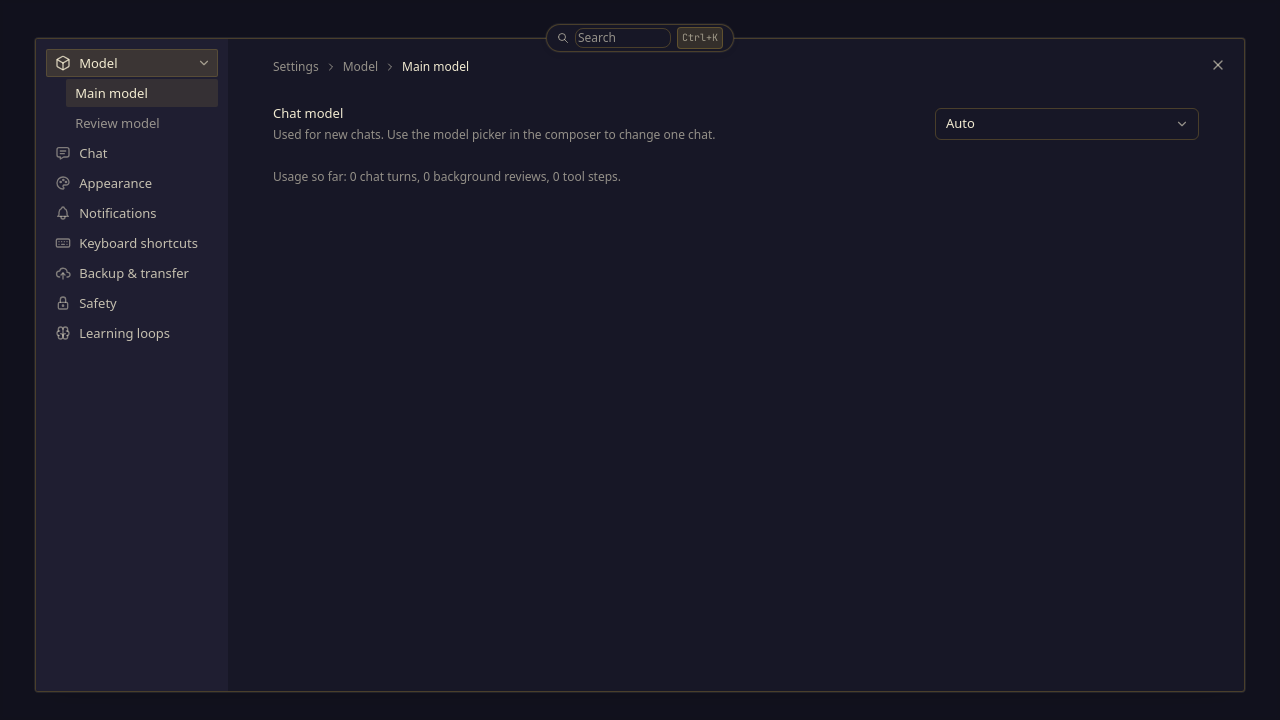
Scenario: Settings overlay › a group with sub-pages expands and its children open their own page
Click the button named "Collapse: Model" at coordinates (204, 63), box [194, 53, 214, 73]
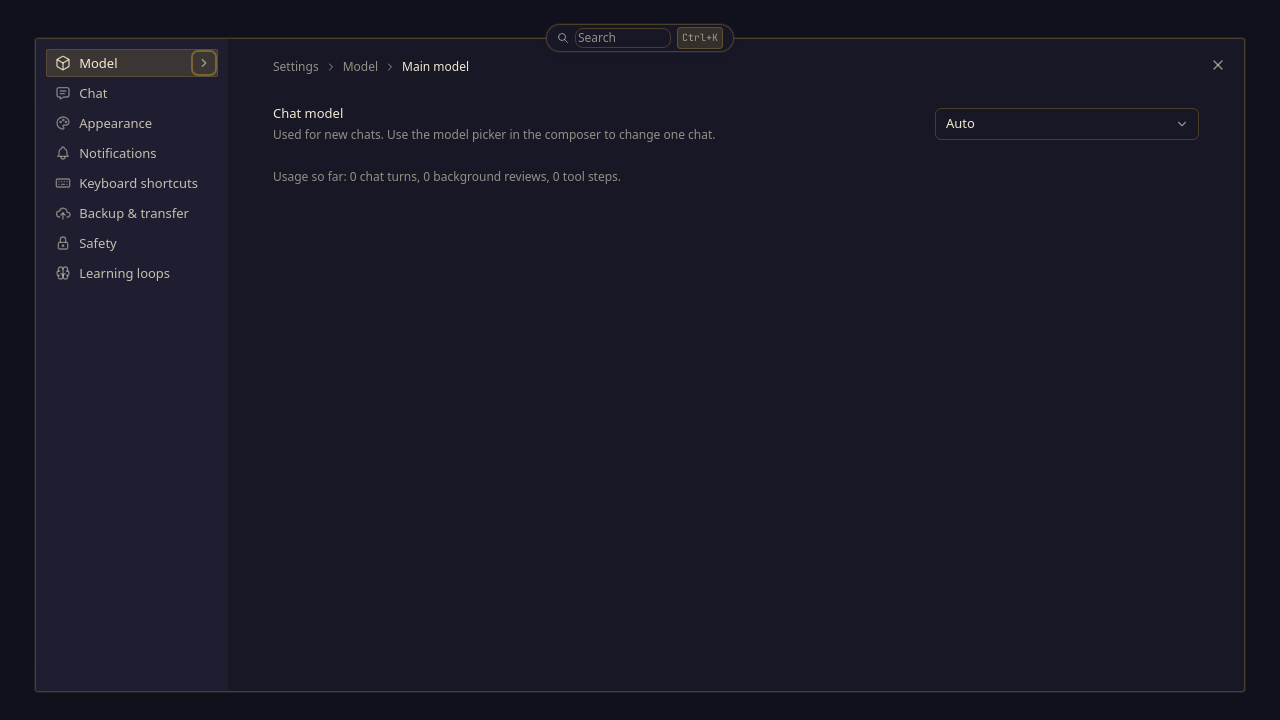
Expected: the button "Review model" is gone
Click the button named "Expand: Model" at coordinates (204, 63), box [194, 53, 214, 73]
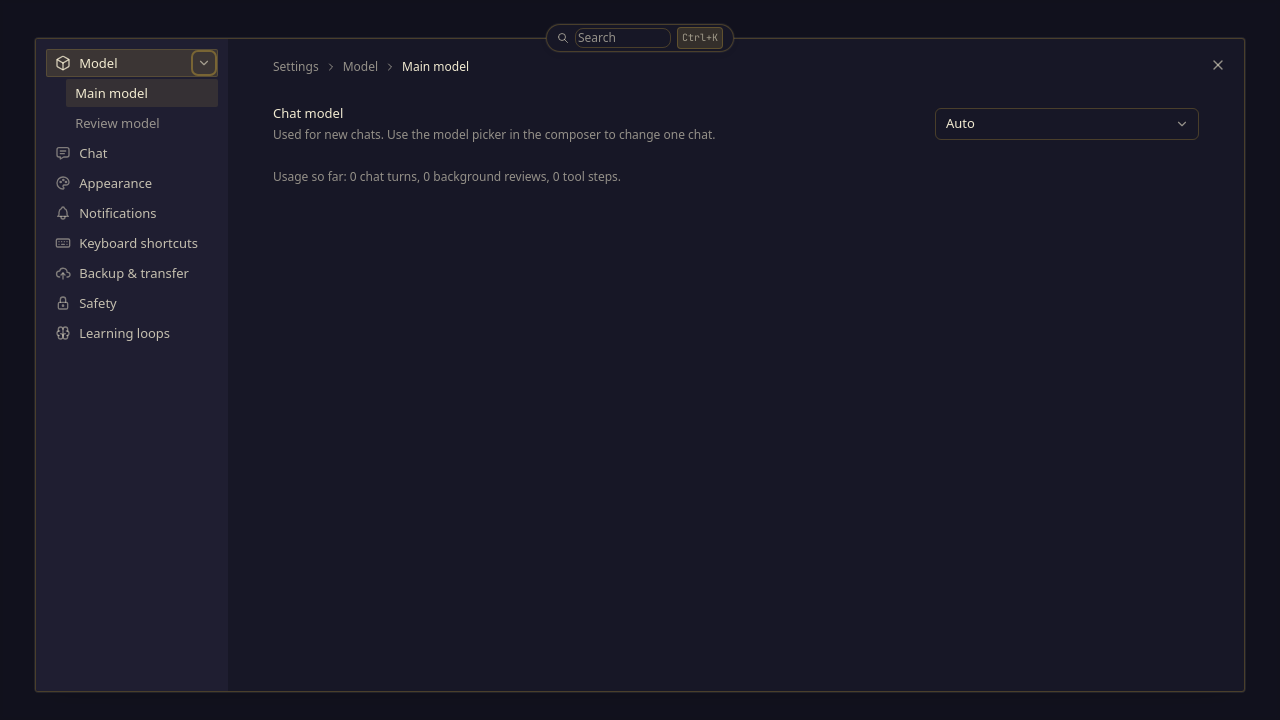
Click the button "Review model" at coordinates (142, 123), box [66, 109, 218, 137]
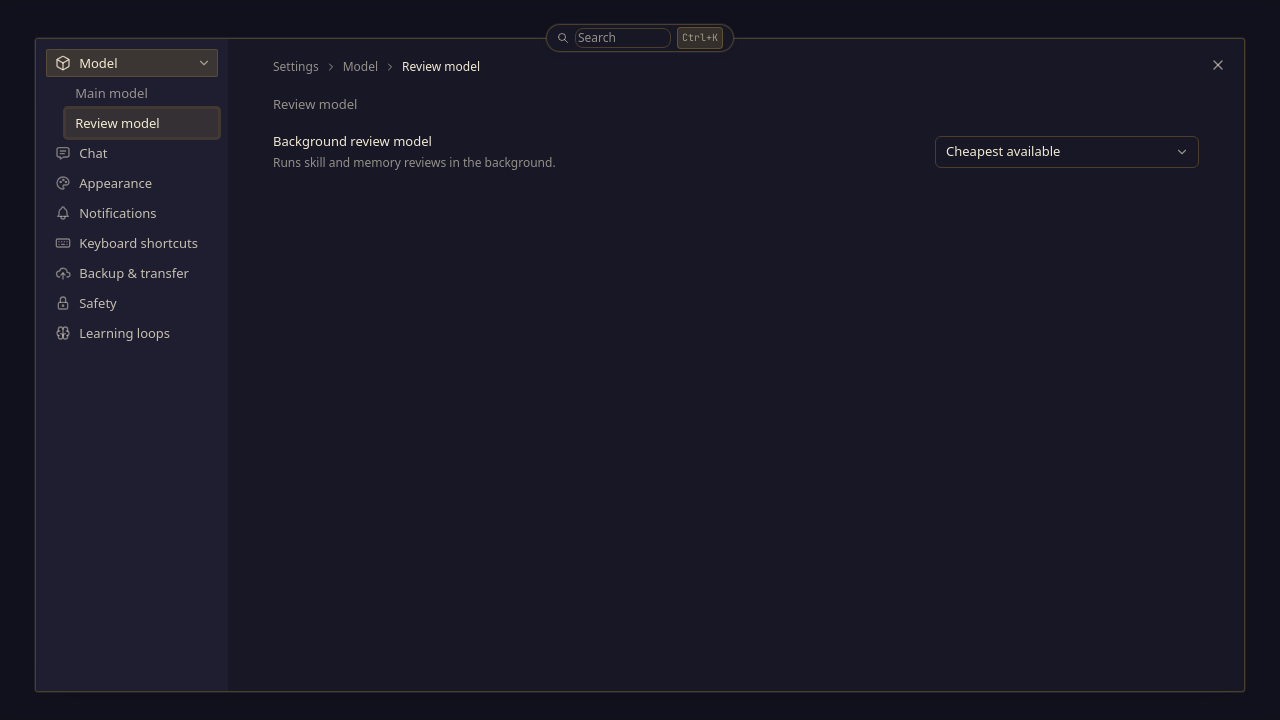
Expected: the navigation bar named "Breadcrumb" reads "Settings Model Review model", [273, 58, 480, 75]
Expected: the dropdown labelled "Background review model" is shown, [935, 136, 1199, 168]
